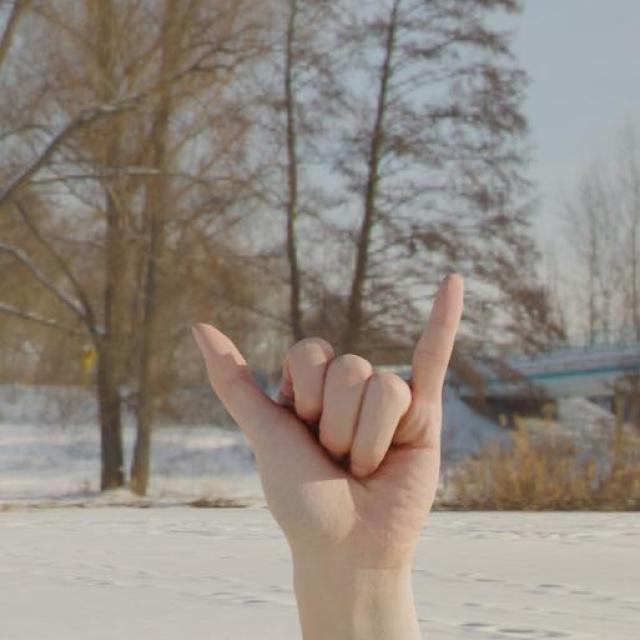Y: (184, 250, 476, 580)
